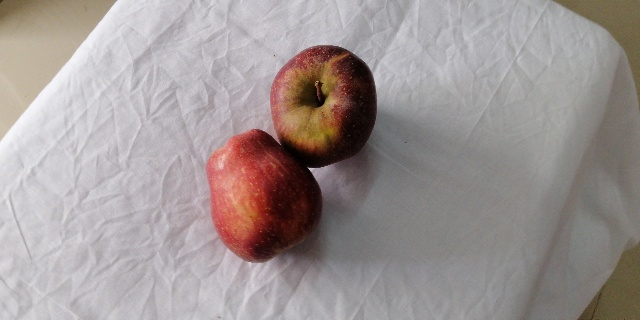apple_kashmir: (205, 131, 329, 266), (268, 42, 383, 169)
